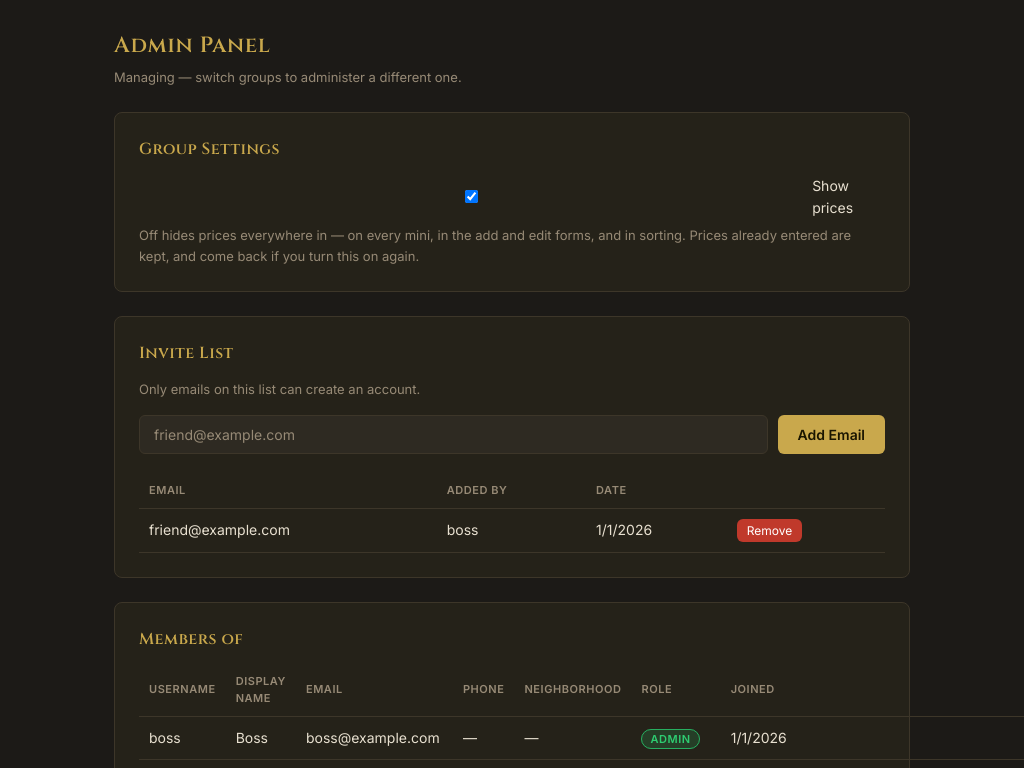
Test: AdminPage — invite list › adds an email, confirms it, clears the box, and refreshes the list
Expected: the text "friend@example.com" is shown, [139,508,437,552]
Type "new@example.com" into the field with placeholder "friend@example.com". click: (453, 435)
box: [139,415,768,454]
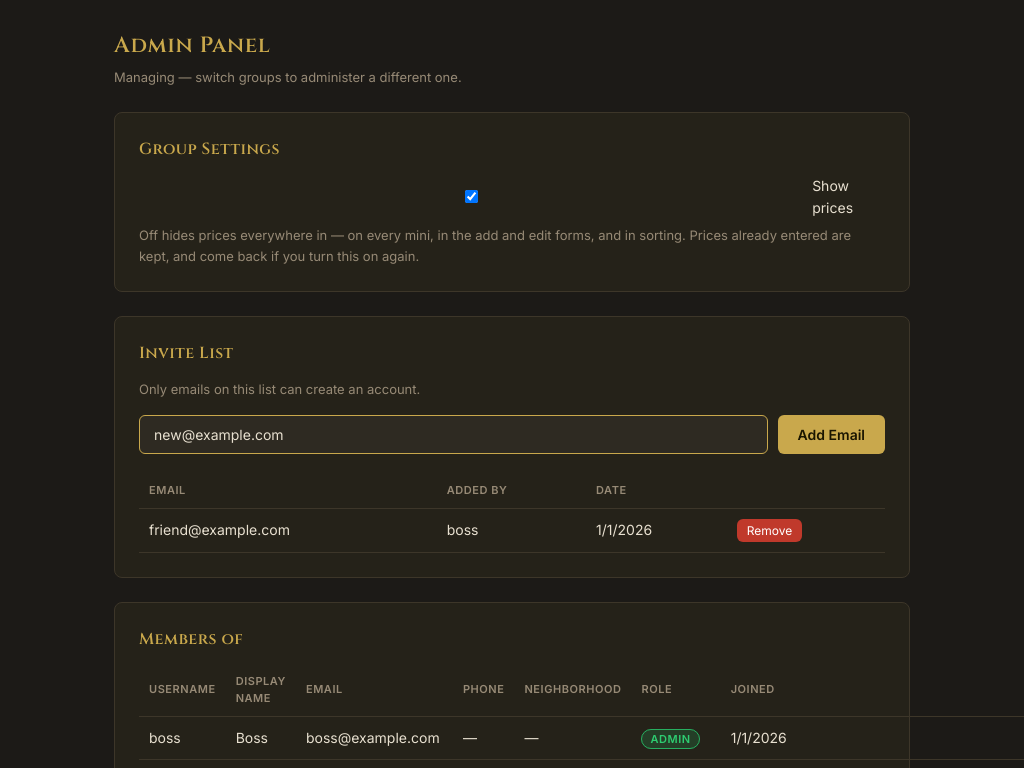
Click the button "Add Email". click: (831, 435)
box: [778,415,885,454]
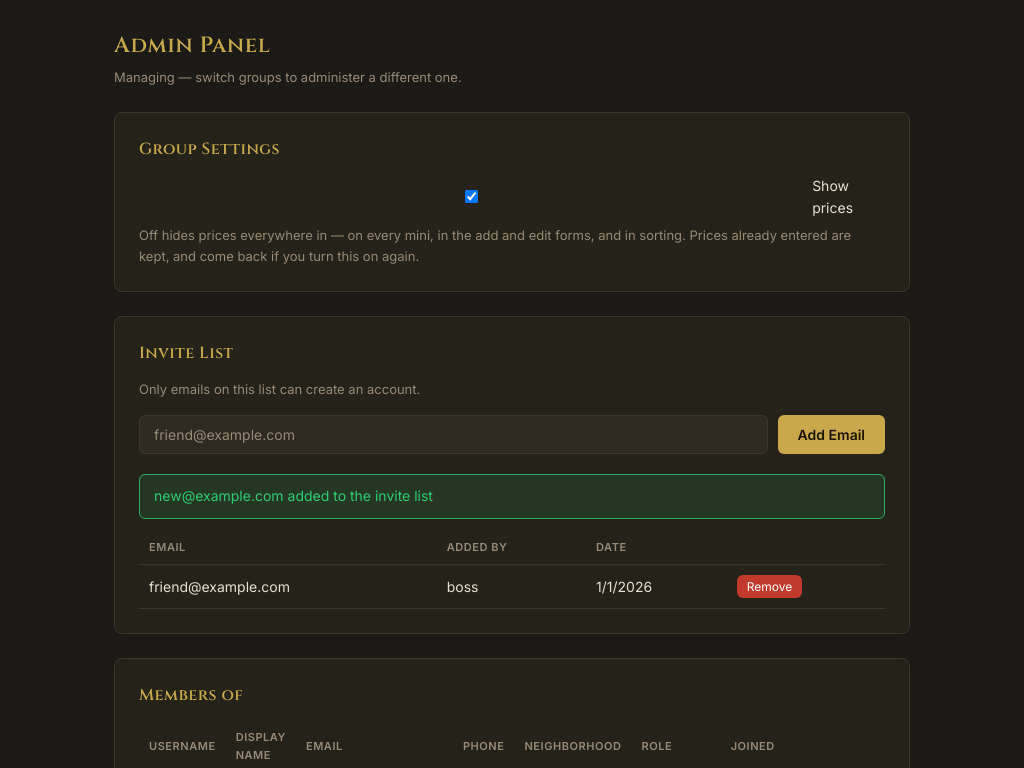
Now the text "new@example.com added to the invite list" is shown, box [139,474,885,519]
Now the field with placeholder "friend@example.com" is empty, box [139,415,768,454]
